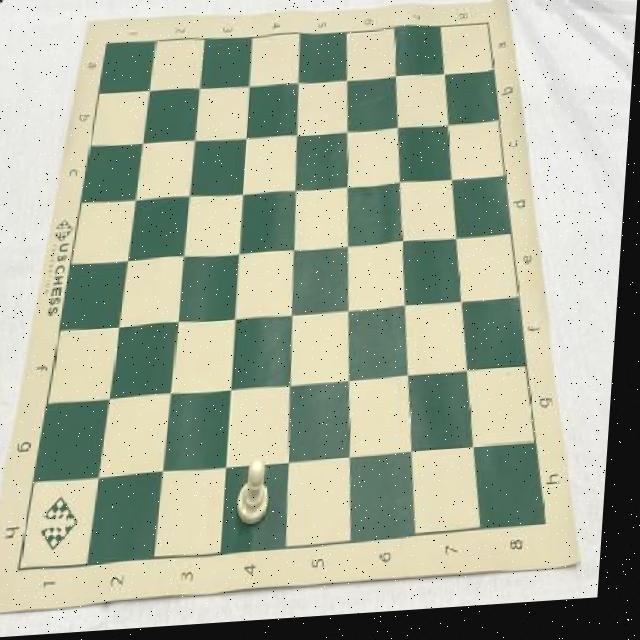white-knight: (244, 461, 280, 532)
